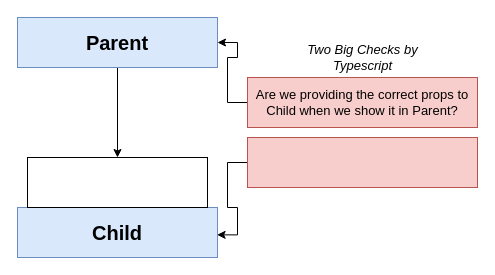
The diagram is 495 pixels wide and 275 high, and some of its shapes have lost their labels. The shapes that lost their labels are listed below. From the top down, each one's box as (x1, y1, x2, y2) in pixels, then its label:
(26, 156, 208, 208): Interface to define what props Child expects to receive
(246, 136, 478, 188): Are we using the correctly named + typed props in Child?
